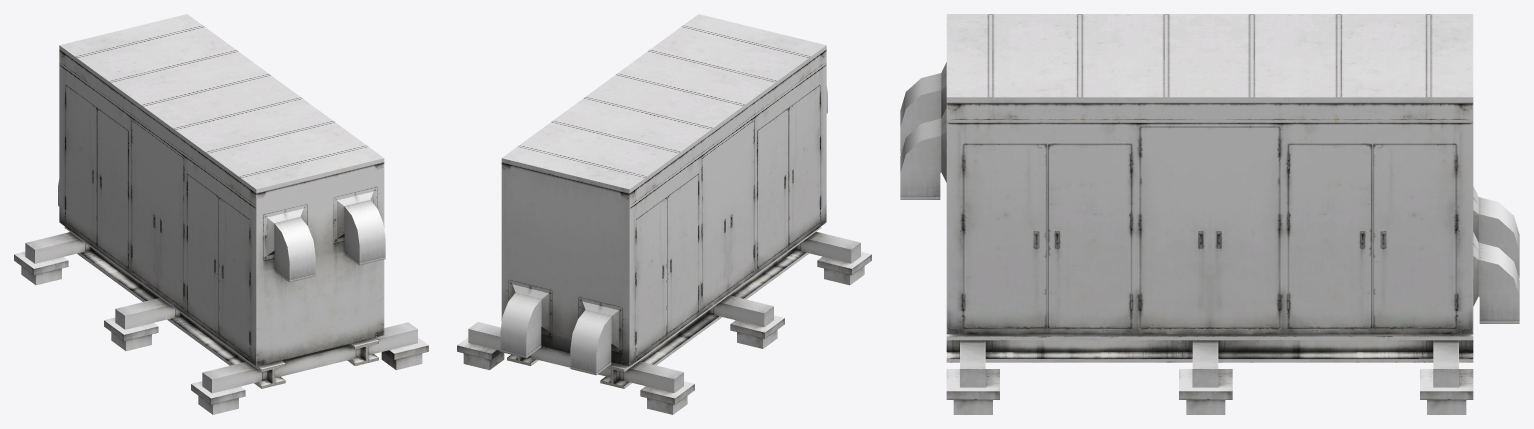
Rendered from S_RooftopBoxes_14.dae.
The picture shows the model from 3 angles, left to right: view 1: azimuth 30°, elevation 25°; view 2: azimuth 150°, elevation 25°; view 3: azimuth 270°, elevation 25°; orthographic projection. The views are drawn at different scales.
Visible parts, largest first — view 1: S_RooftopBoxes_14.003; view 2: S_RooftopBoxes_14.003; view 3: S_RooftopBoxes_14.003.
Part boxes in pixels (x1,y1,x2,y2): S_RooftopBoxes_14.003: (14,14,428,414); S_RooftopBoxes_14.003: (457,14,871,414); S_RooftopBoxes_14.003: (900,14,1519,414).
Size of the model in its own units: 3.27 by 6.02 by 3.12.
